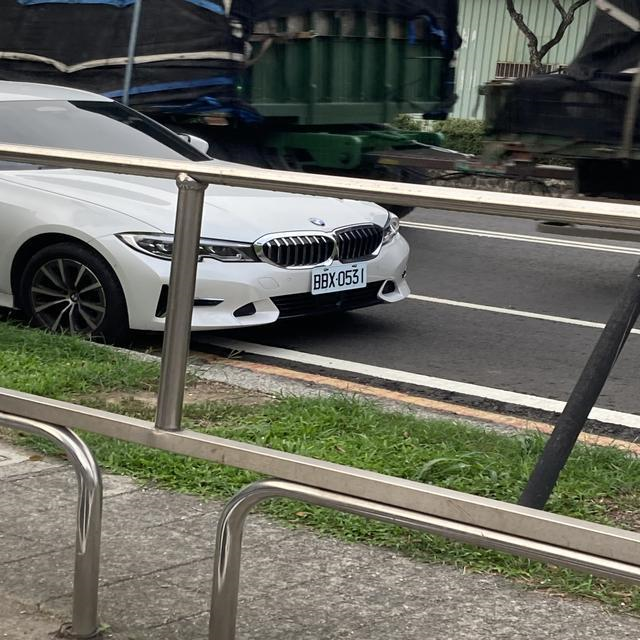license: (306, 264, 369, 292)
